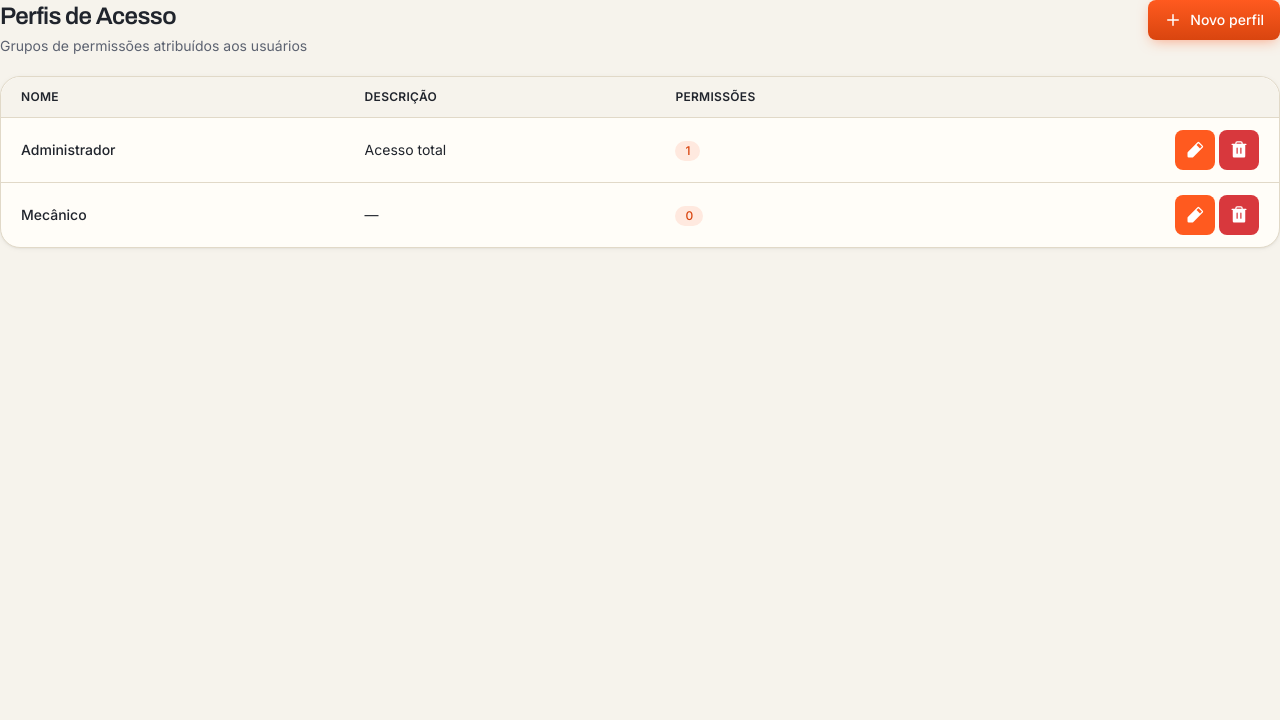
Test: PerfisPage › closes the modal via Cancelar
The image size is (1280, 720).
Click the button "Novo perfil": x=1214, y=20 [1148, 0, 1279, 40]
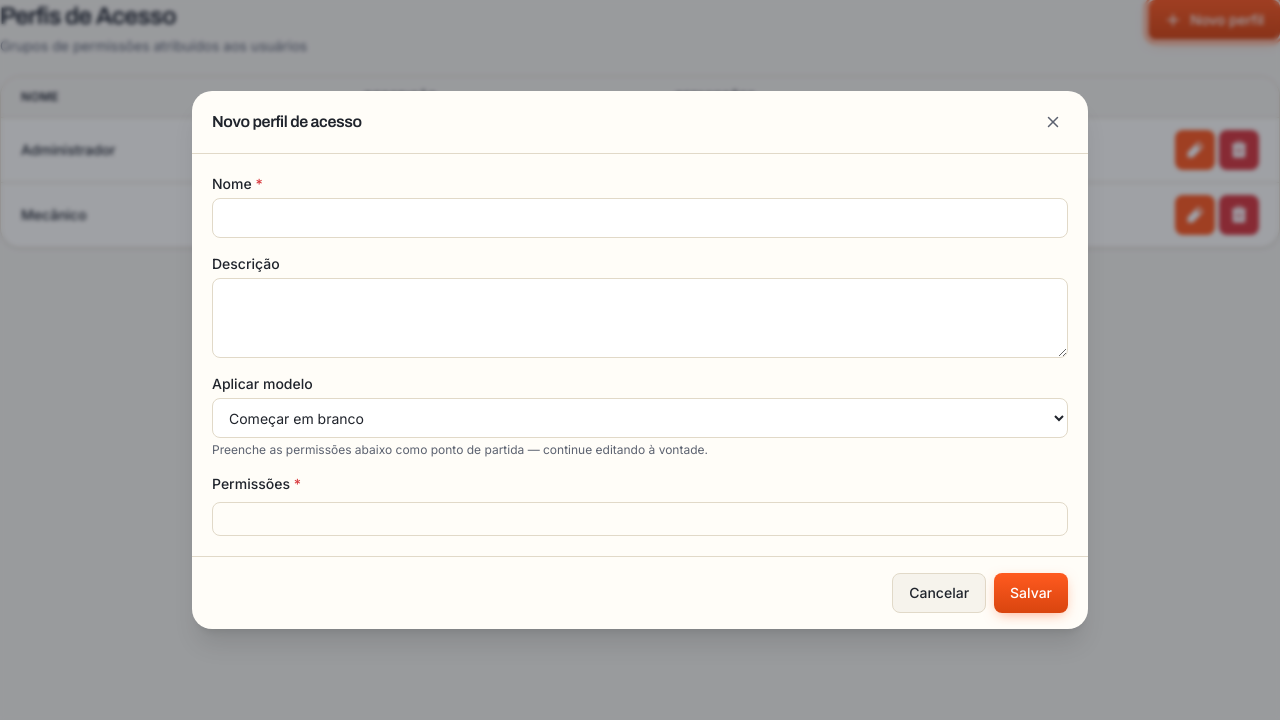
Click the button "Cancelar": x=939, y=593 [892, 573, 986, 613]
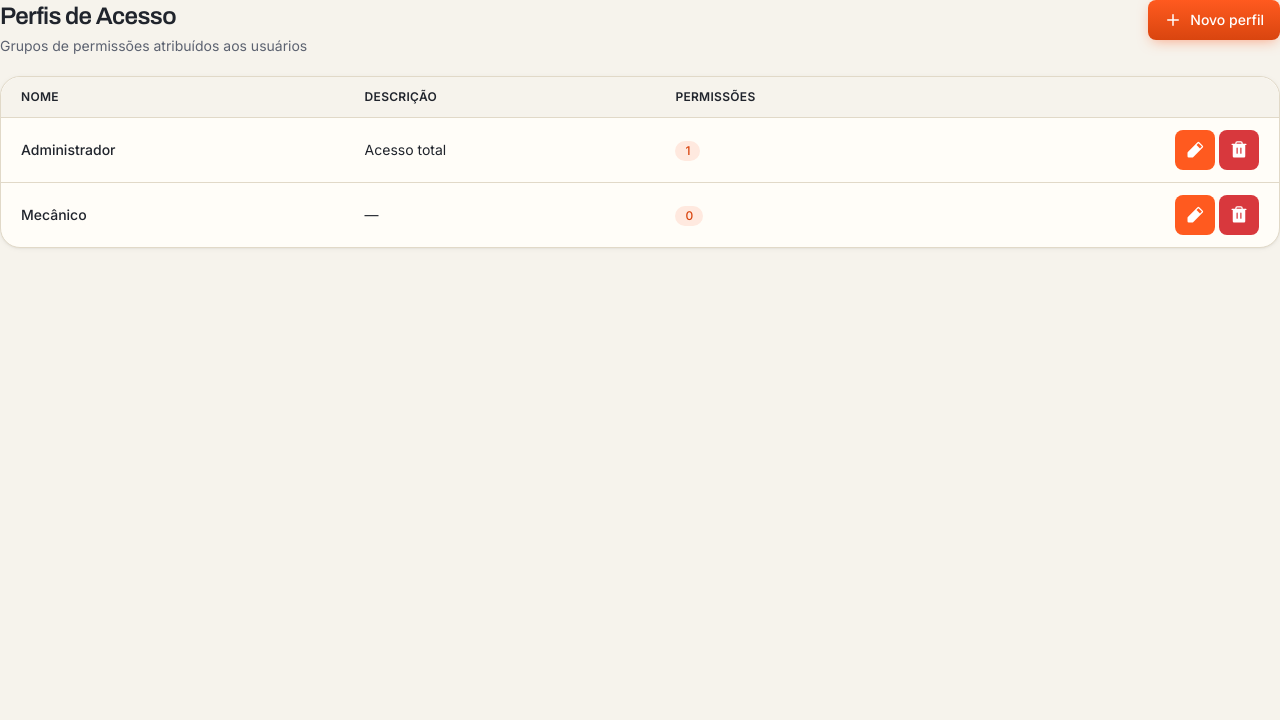
Result: the heading "Novo perfil de acesso" is gone
